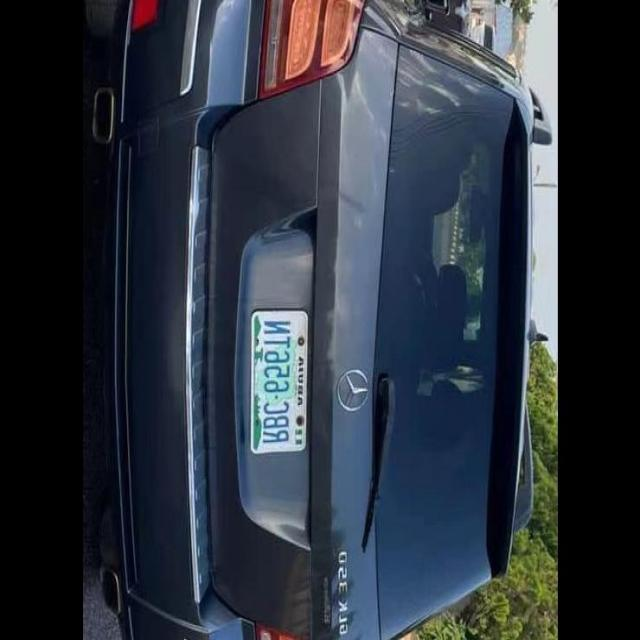Nigerian License Plate - vdataset benjamin-daria: (246, 304, 308, 457)
